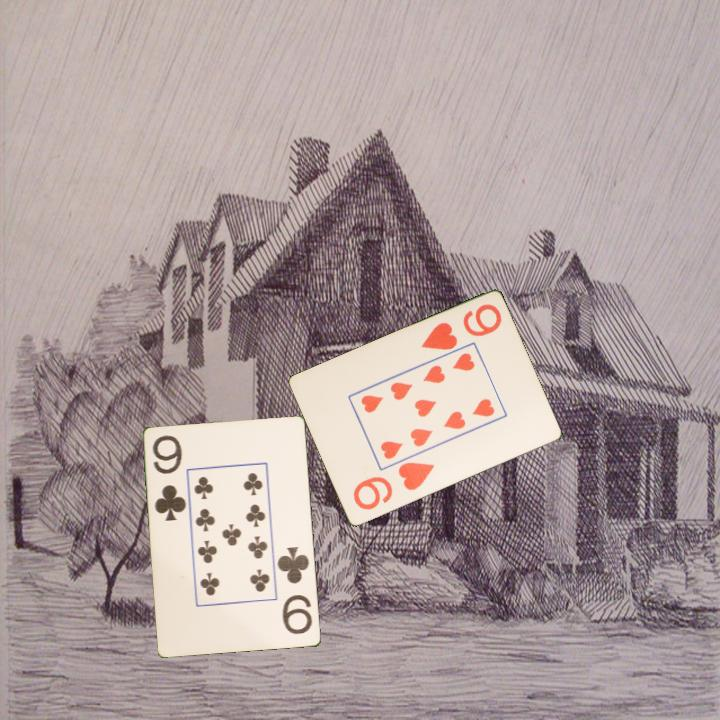9c: (274, 544, 315, 638), (149, 432, 189, 524)
9h: (349, 459, 437, 513), (417, 300, 505, 353)
